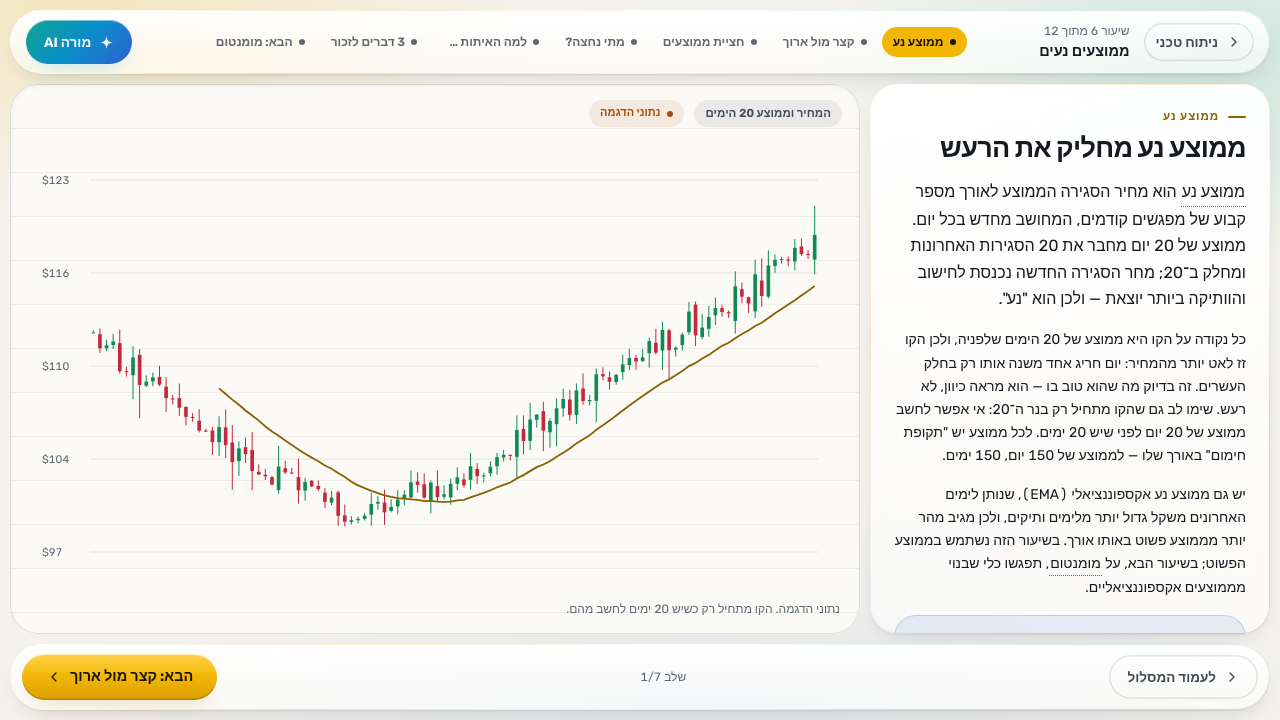
Test: the tutor beside the lesson › closing it returns to the step with a note, and the conversation can be reopened
Click the button "מורה AI" at [79, 42], box [26,20,132,64]
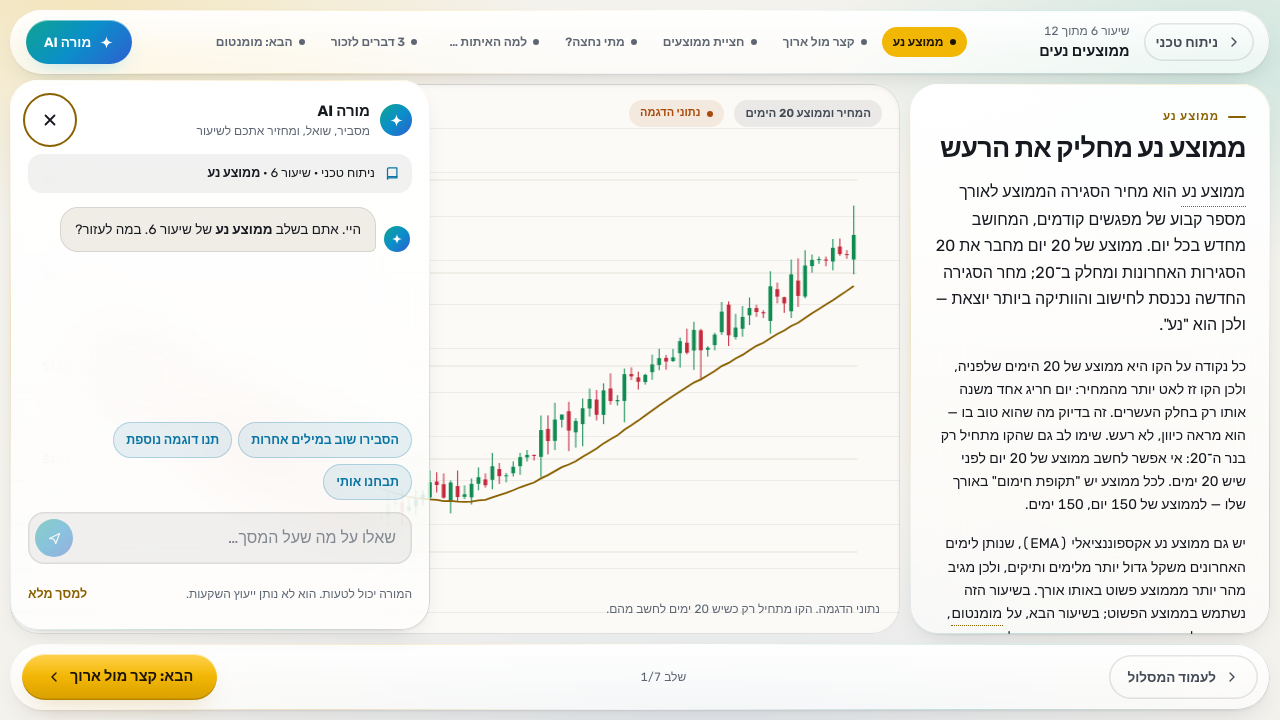
Click the button named "סגירת המורה" at [50, 120], box [28,98,72,142]
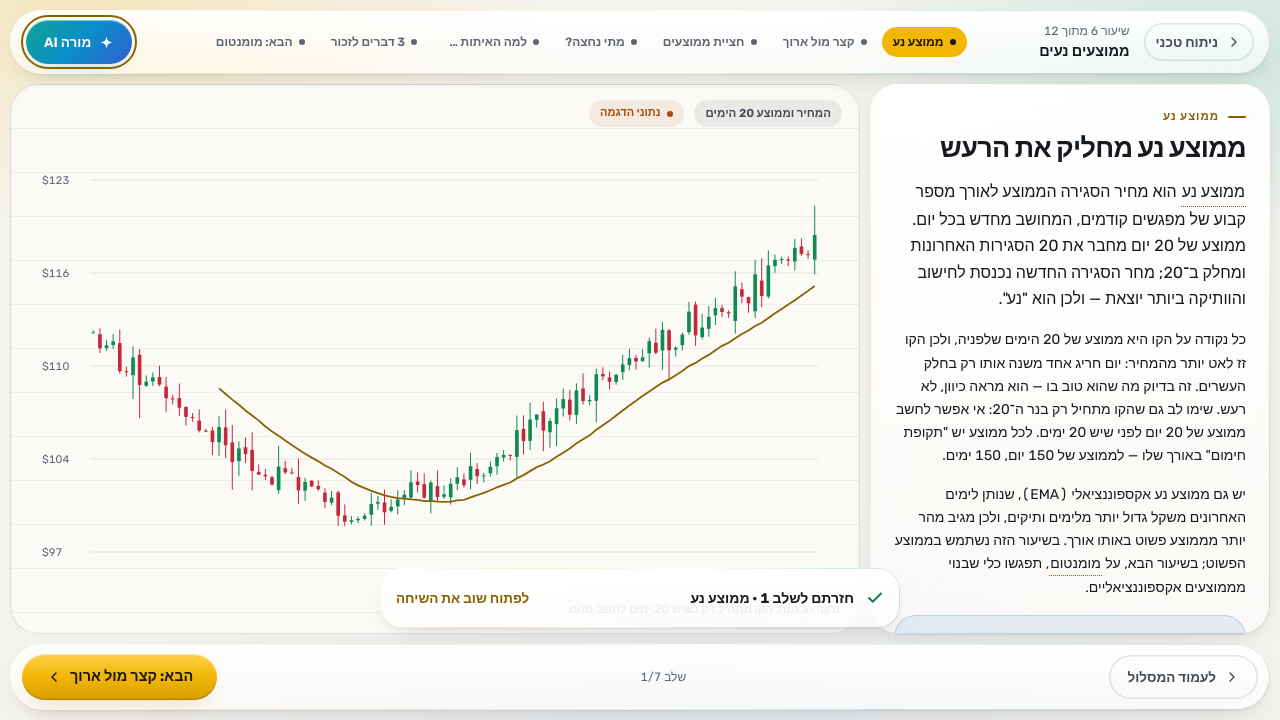
Expected: the text "חזרתם לשלב 1 · ממוצע נע" is shown, [690,590,854,606]
Click the button "לפתוח שוב את השיחה" at [463, 598], box [396,580,529,616]
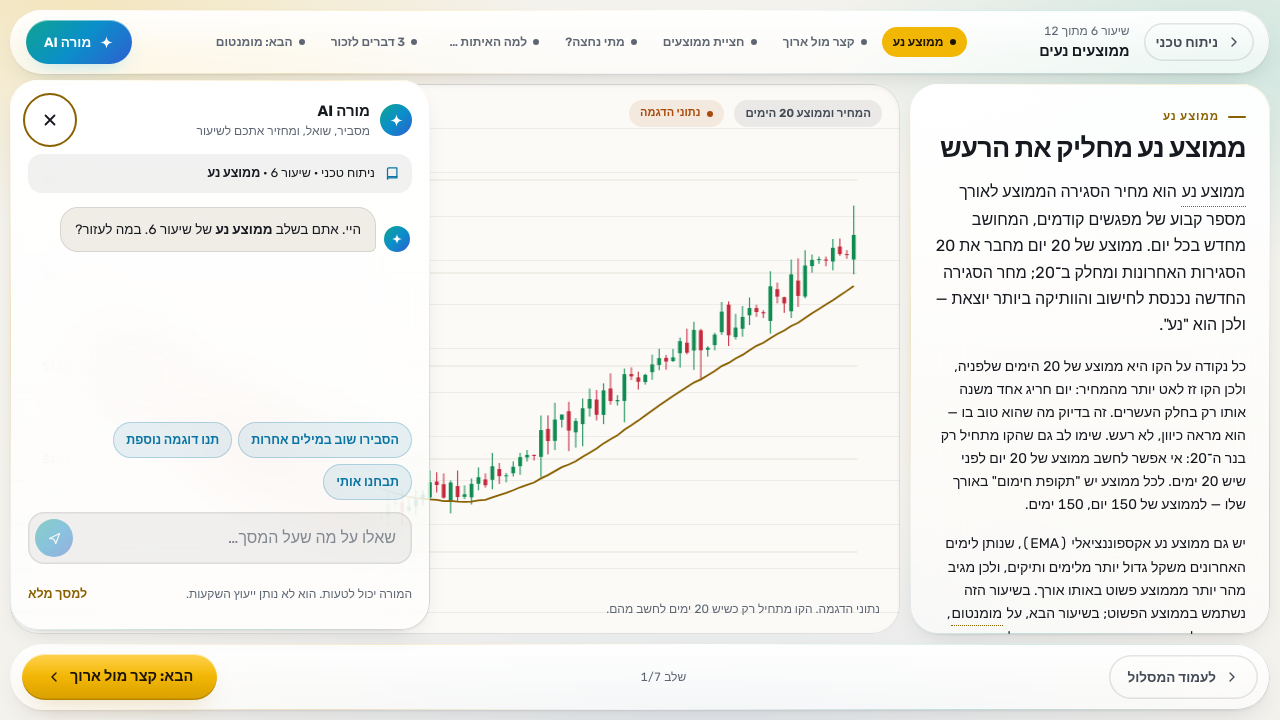
Expected: the element "מורה AI" is shown, [10,80,430,630]
